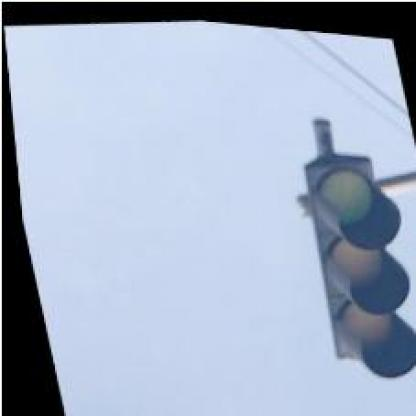green: (290, 139, 414, 381)
